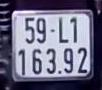1: (17, 47, 27, 78), (72, 15, 80, 45)
2: (76, 46, 89, 76)
3: (44, 47, 58, 75)
5: (22, 16, 35, 44)
6: (30, 47, 44, 75)
9: (36, 17, 48, 44), (62, 47, 73, 74)
L: (57, 14, 71, 45)
